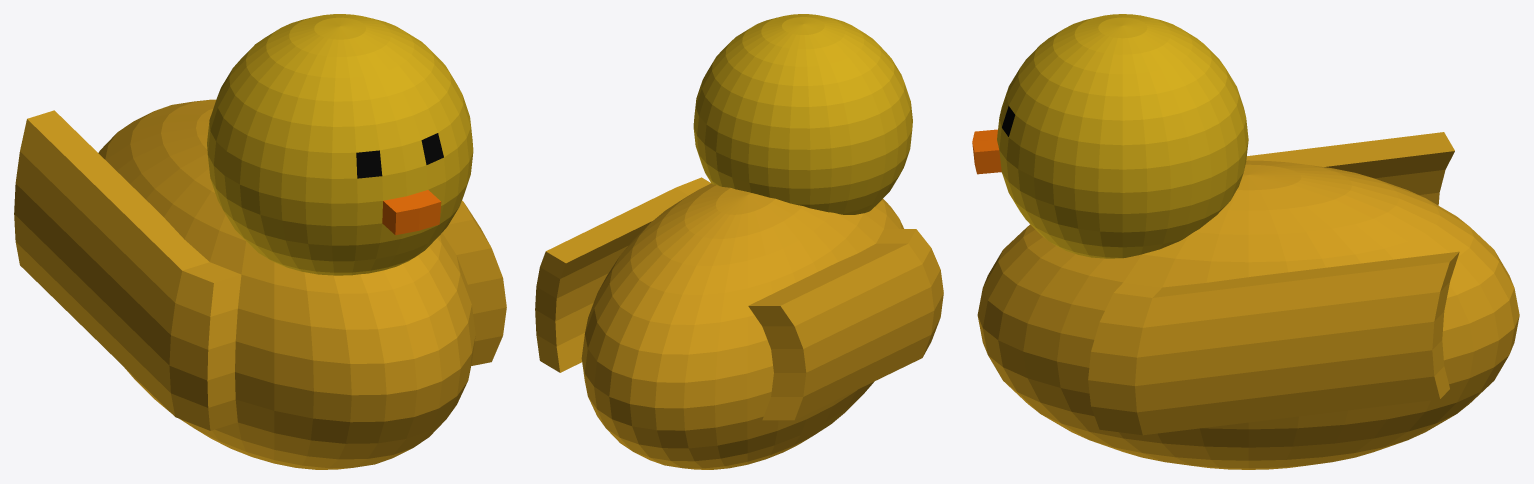
Rendered from lowPolyDuck.fbx.
3 renders of one model, left to right at view 1: azimuth 30°, elevation 25°; view 2: azimuth 150°, elevation 25°; view 3: azimuth 270°, elevation 25°, orthographic. The views are drawn at different scales.
Visible parts, largest first — view 1: Sphere, Sphere.001; view 2: Sphere, Sphere.001; view 3: Sphere, Sphere.001.
Part boxes in pixels (x1,y1,x2,y2): Sphere: (14,99,506,469); Sphere.001: (207,14,473,275); Sphere: (535,177,943,469); Sphere.001: (693,14,912,214); Sphere: (977,132,1519,469); Sphere.001: (972,14,1248,258).
Bounding box in the file's own units: 183 × 245 × 283.
